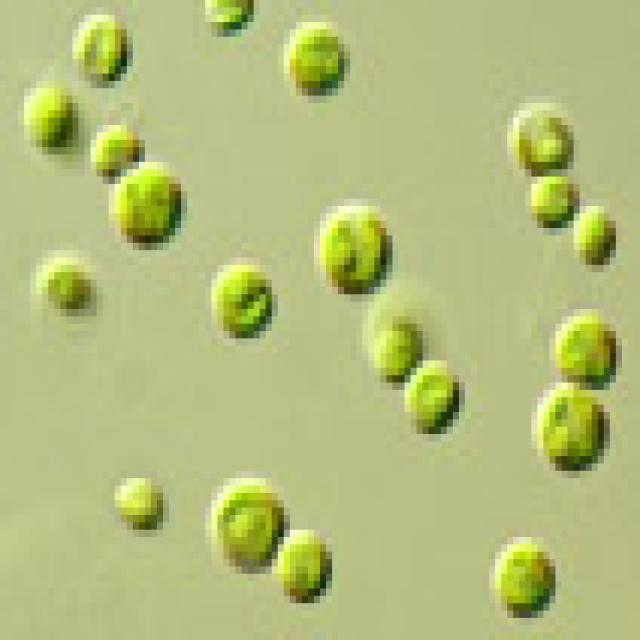Green Algae: (308, 198, 398, 302), (525, 390, 616, 478), (205, 478, 284, 574), (543, 309, 628, 397), (211, 257, 278, 346), (489, 537, 562, 618), (115, 169, 181, 258), (278, 22, 350, 103), (72, 8, 139, 88), (278, 522, 338, 611), (507, 103, 574, 177), (404, 360, 465, 434), (42, 258, 103, 331), (18, 81, 73, 154), (362, 309, 417, 382), (109, 471, 169, 537), (567, 206, 616, 265), (90, 125, 145, 177), (525, 169, 568, 228)
